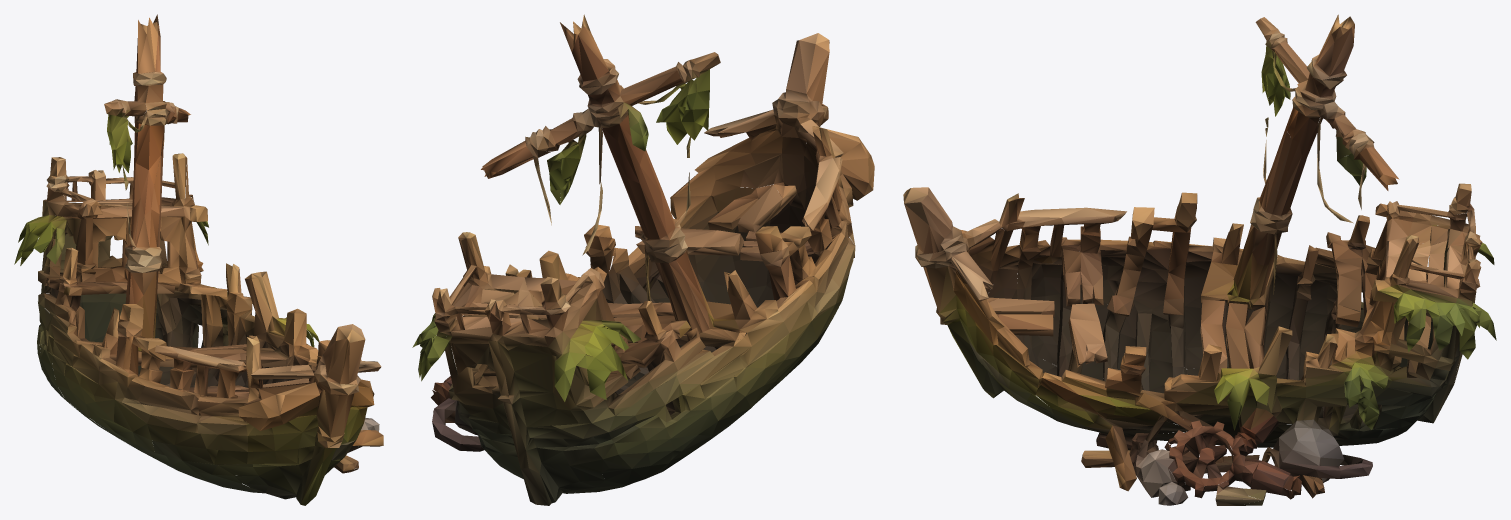
File: building-wreck.glb
3 views of the same model, side by side, from view 1: azimuth 30°, elevation 25°; view 2: azimuth 150°, elevation 25°; view 3: azimuth 270°, elevation 25° (orthographic). The views are drawn at different scales.
Visible parts, largest first — view 1: 0_wreck; view 2: 0_wreck; view 3: 0_wreck.
Boxes of the visible parts, box(x1,y1,x2,y2) form: 0_wreck: box(14, 14, 383, 505); 0_wreck: box(412, 14, 874, 505); 0_wreck: box(903, 14, 1496, 505).
Bounding box in the file's own units: 4.51 × 6.25 × 8.07.
